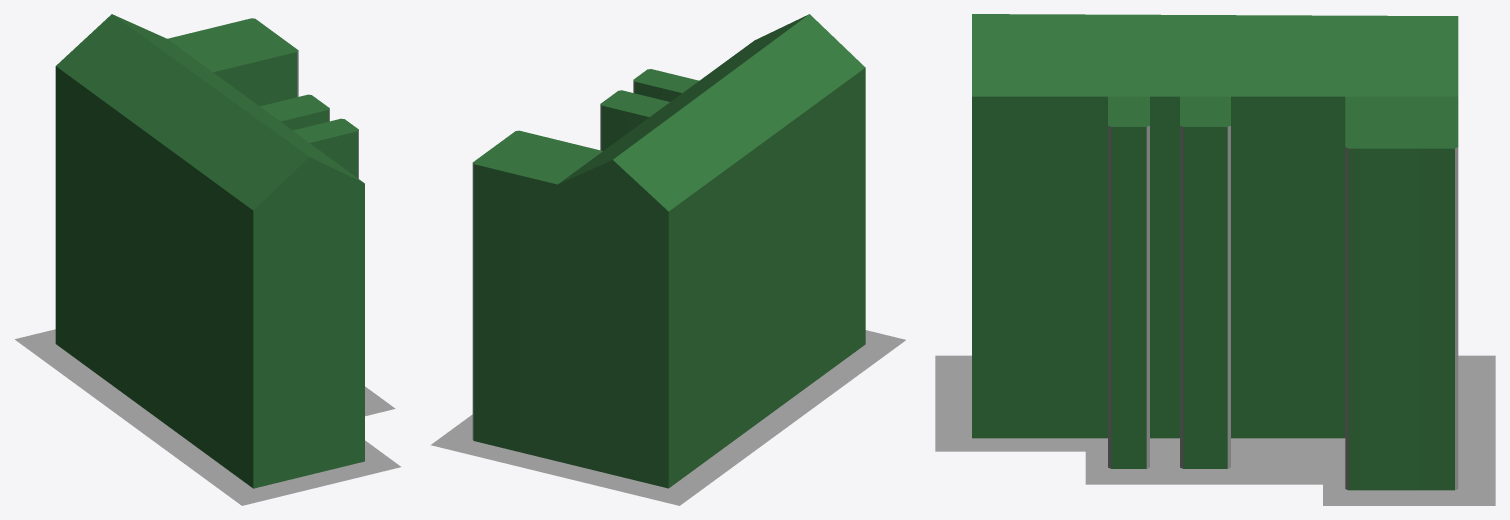
The model's file is Building_3.fbx.
3 renders of one model, left to right at view 1: azimuth 30°, elevation 25°; view 2: azimuth 150°, elevation 25°; view 3: azimuth 270°, elevation 25°, orthographic. The views are drawn at different scales.
Parts seen in each view (by area): view 1: building3, building3_shdw; view 2: building3, building3_shdw; view 3: building3, building3_shdw.
Boxes of the visible parts, x1,y1,x2,y2 form: building3: (55,14,364,488); building3_shdw: (15,329,400,505); building3: (472,14,865,488); building3_shdw: (430,330,905,505); building3: (972,14,1458,490); building3_shdw: (935,355,1495,505).
Size of the model in its own units: 95.8 by 116 by 151.
